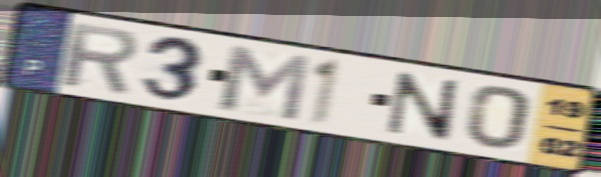0: (462, 84, 535, 153)
1: (308, 56, 350, 130)
3: (140, 32, 207, 105)
M: (216, 41, 314, 124)
N: (385, 69, 461, 145)
R: (60, 19, 142, 96)
